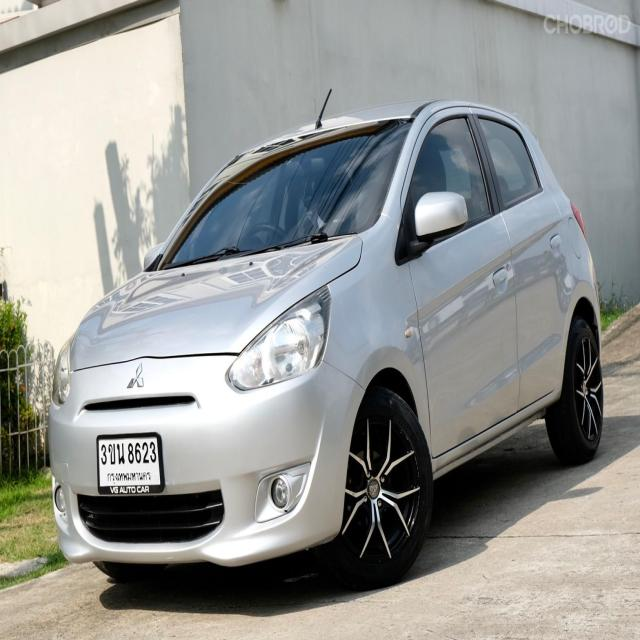license_plate: (95, 432, 167, 497)
